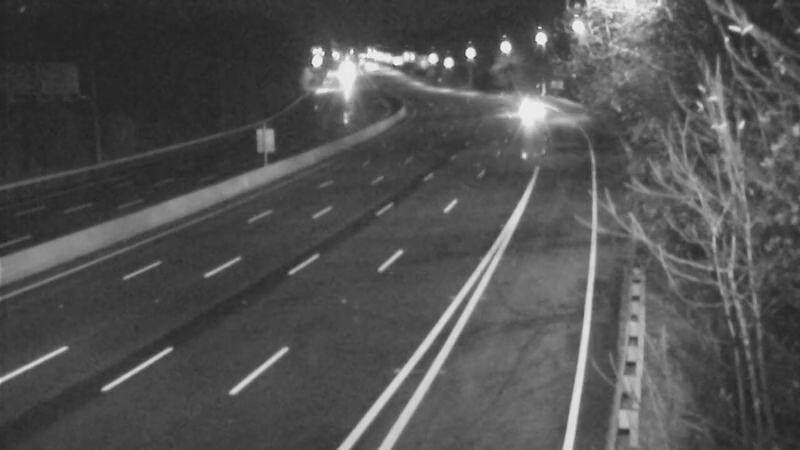vehicle: (499, 86, 549, 136)
